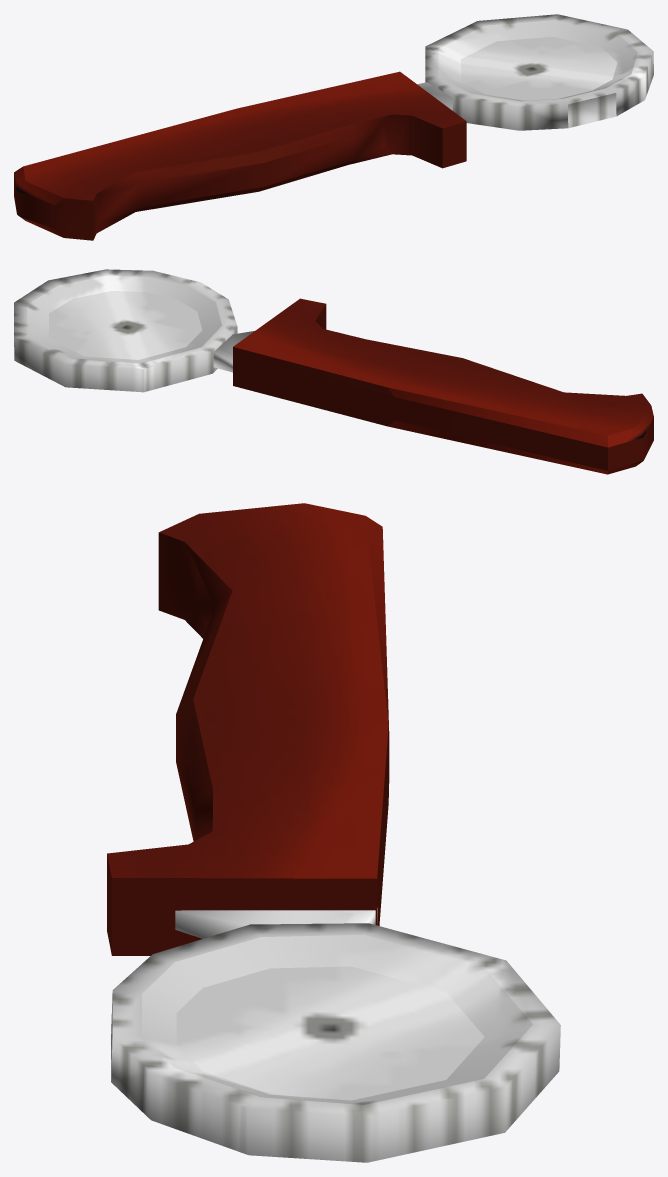
The model's file is Pizza_Cutter.fbx.
The picture shows the model from 3 angles, top to bottom: view 1: azimuth 30°, elevation 25°; view 2: azimuth 150°, elevation 25°; view 3: azimuth 270°, elevation 25°; orthographic projection. The views are drawn at different scales.
Visible parts, largest first — view 1: Pizzacutter; view 2: Pizzacutter; view 3: Pizzacutter.
Boxes of the visible parts, left/top/right/bottom form: Pizzacutter: left=14, top=14, right=653, bottom=240; Pizzacutter: left=14, top=269, right=653, bottom=474; Pizzacutter: left=107, top=503, right=560, bottom=1162.
Size of the model in its own units: 39.41 by 2.39 by 12.61.
